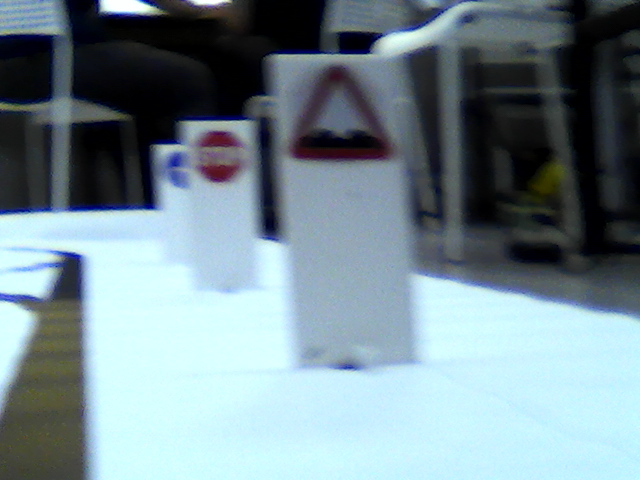Nerov: (288, 62, 394, 162)
Stop: (193, 127, 247, 182)
